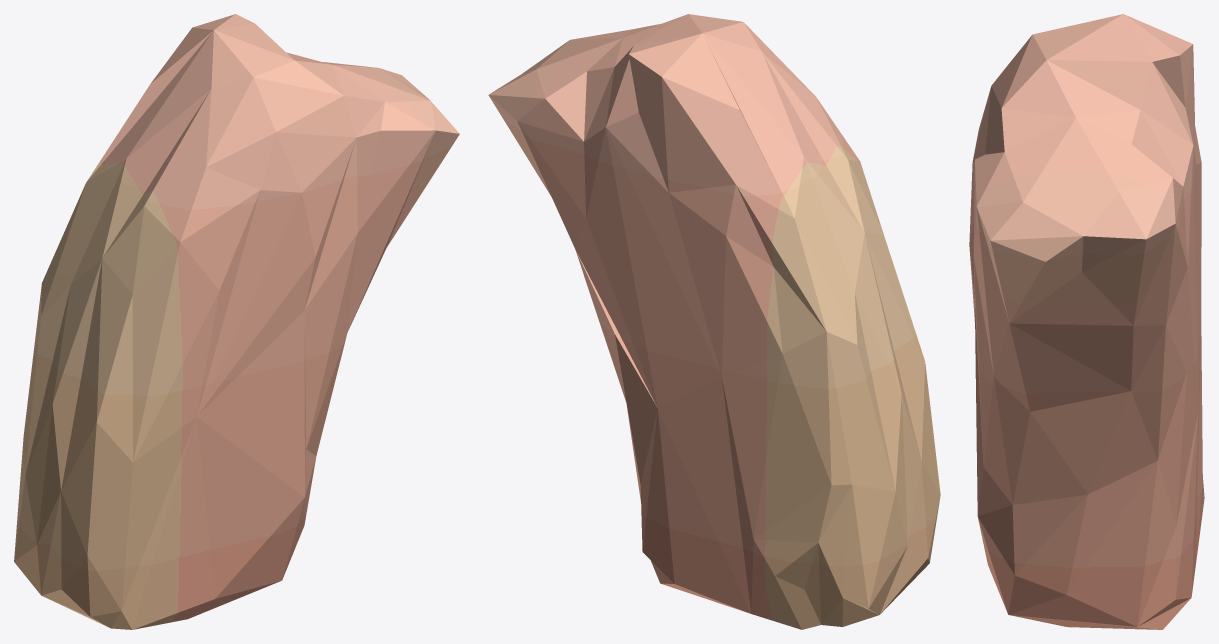
The model's file is DC_PortalRock3.fbx.
3 renders of one model, left to right at view 1: azimuth 30°, elevation 25°; view 2: azimuth 150°, elevation 25°; view 3: azimuth 270°, elevation 25°, orthographic. The views are drawn at different scales.
Parts seen in each view (by area): view 1: PortalRock3; view 2: PortalRock3; view 3: PortalRock3.
Boxes of the visible parts, x1=… form: PortalRock3: x1=14, y1=14, x2=459, y2=629; PortalRock3: x1=488, y1=14, x2=940, y2=629; PortalRock3: x1=969, y1=14, x2=1204, y2=629.
Bounding box in the file's own units: 1.2 × 1.6 × 0.5533.
Materials: 1 (1 with a texture image).
